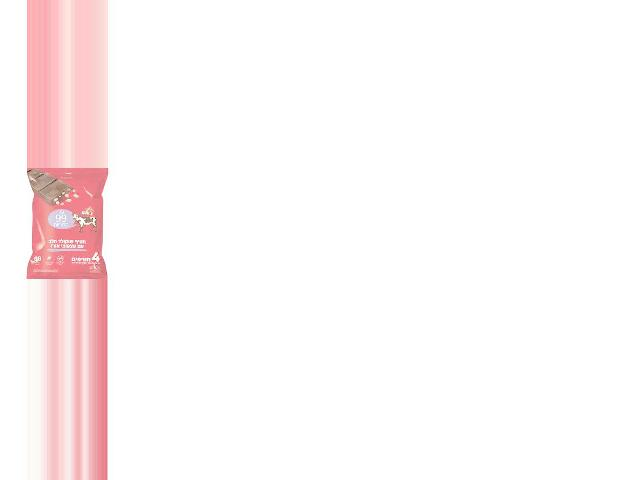chocolate: (25, 168, 105, 280)
